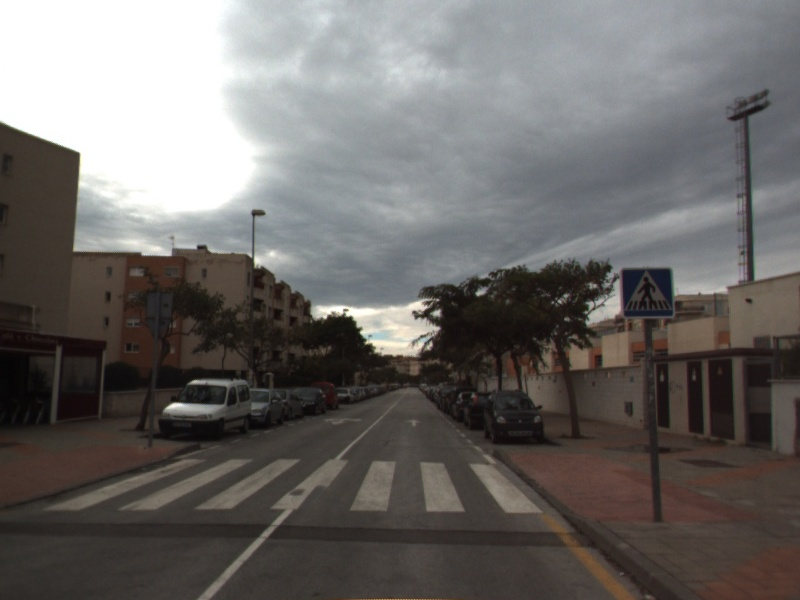STRAIGHT: (404, 417, 423, 428)
